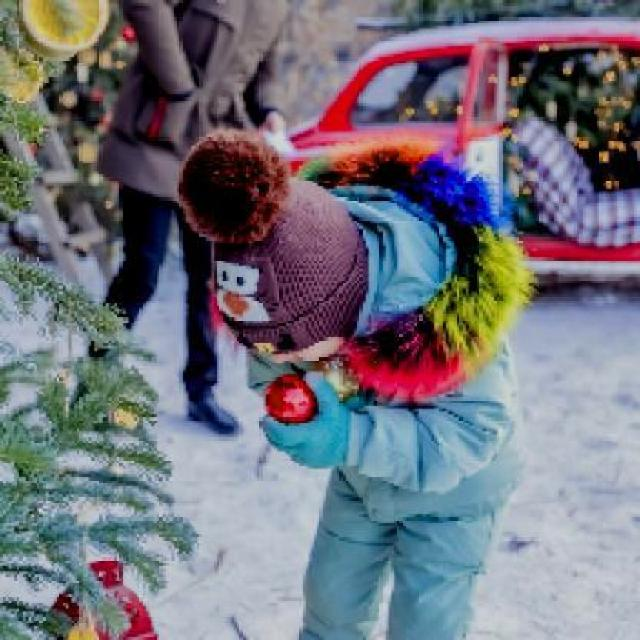child: (177, 125, 540, 638)
